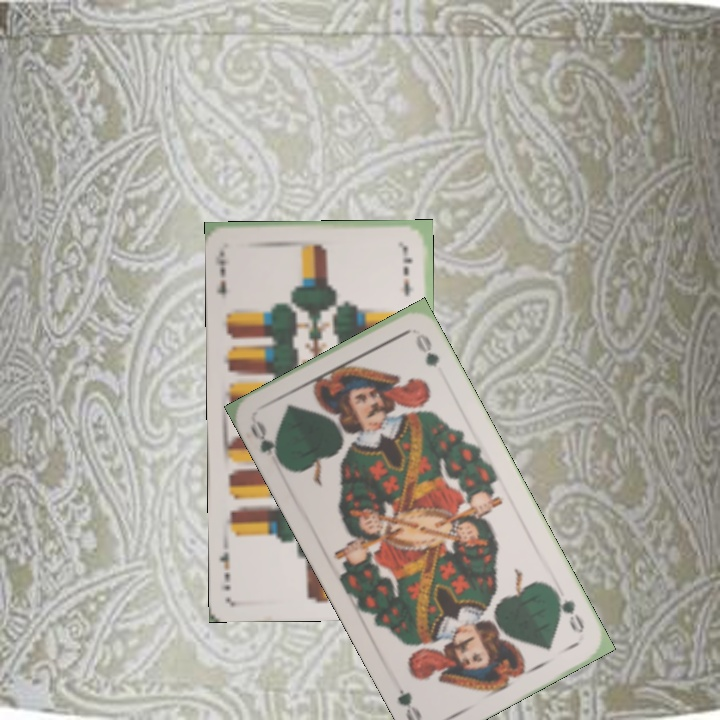E7: (212, 247, 230, 298)
GO: (246, 416, 288, 470), (549, 585, 587, 636)
